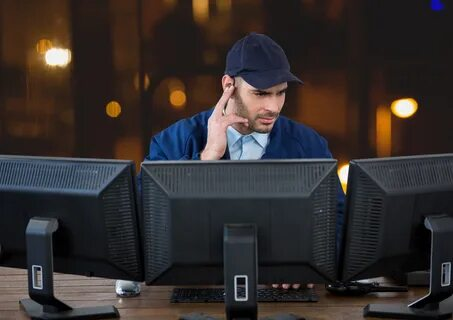awake: (148, 31, 335, 160)
